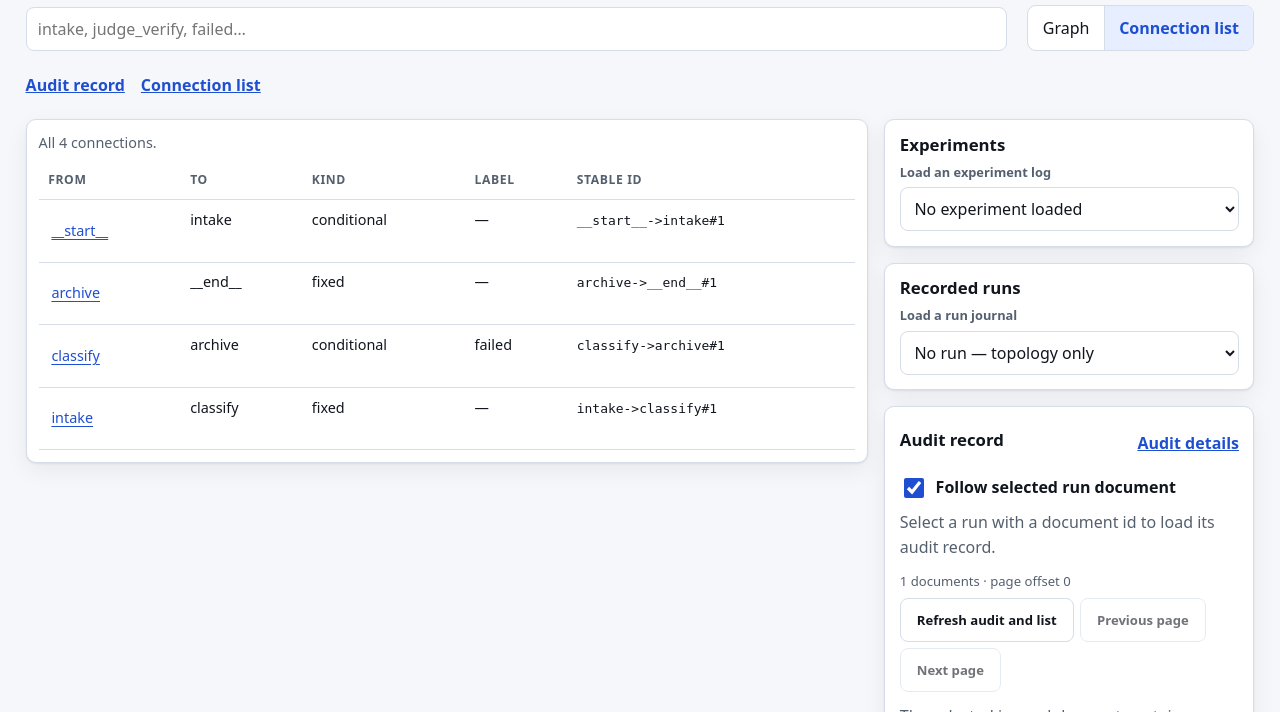
Test: recorded run playback › Show all clears the current step and stops playback
(page scrolled)
Check: the text "All 4 connections." is shown, box [39,133,157,152]
Step 1. Select "real-doc.txt — contract / archived" in the dropdown labelled "Load a run journal" → (1069, 353), box [900,331,1239,375]
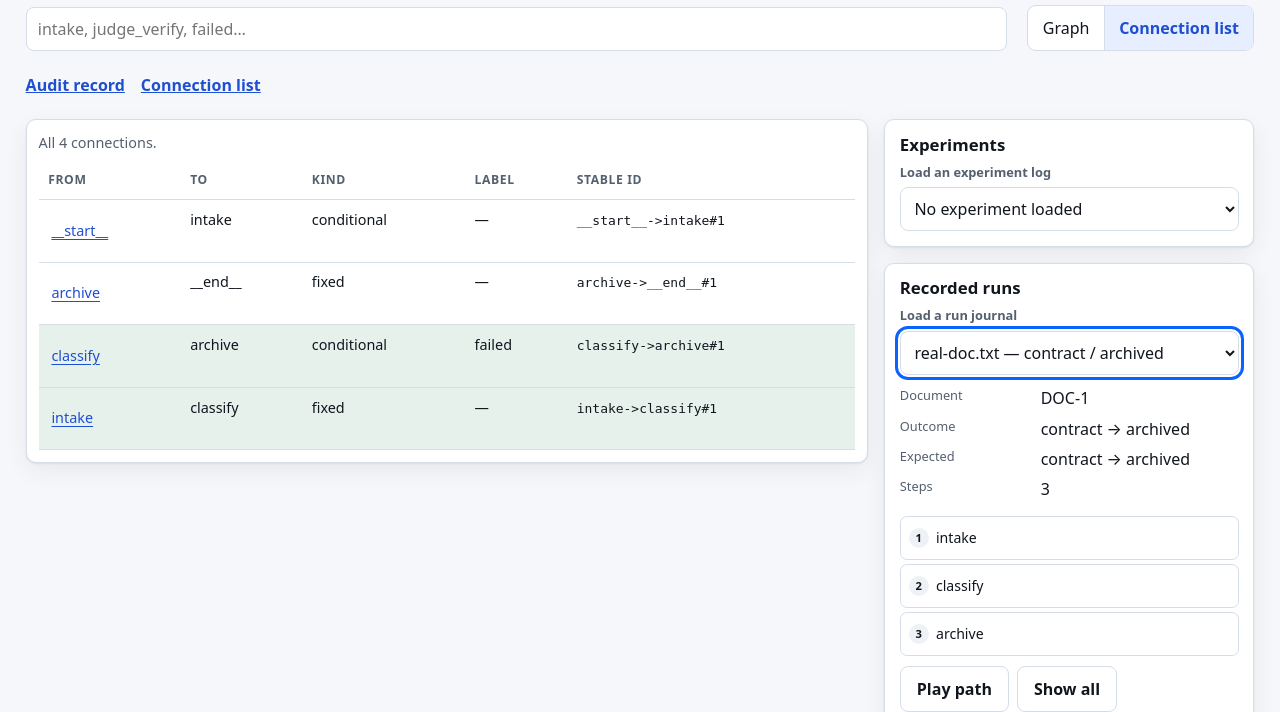
Step 2. Click the button "Play path" → (954, 689), box [900,666,1009,711]
Wait 900 ms
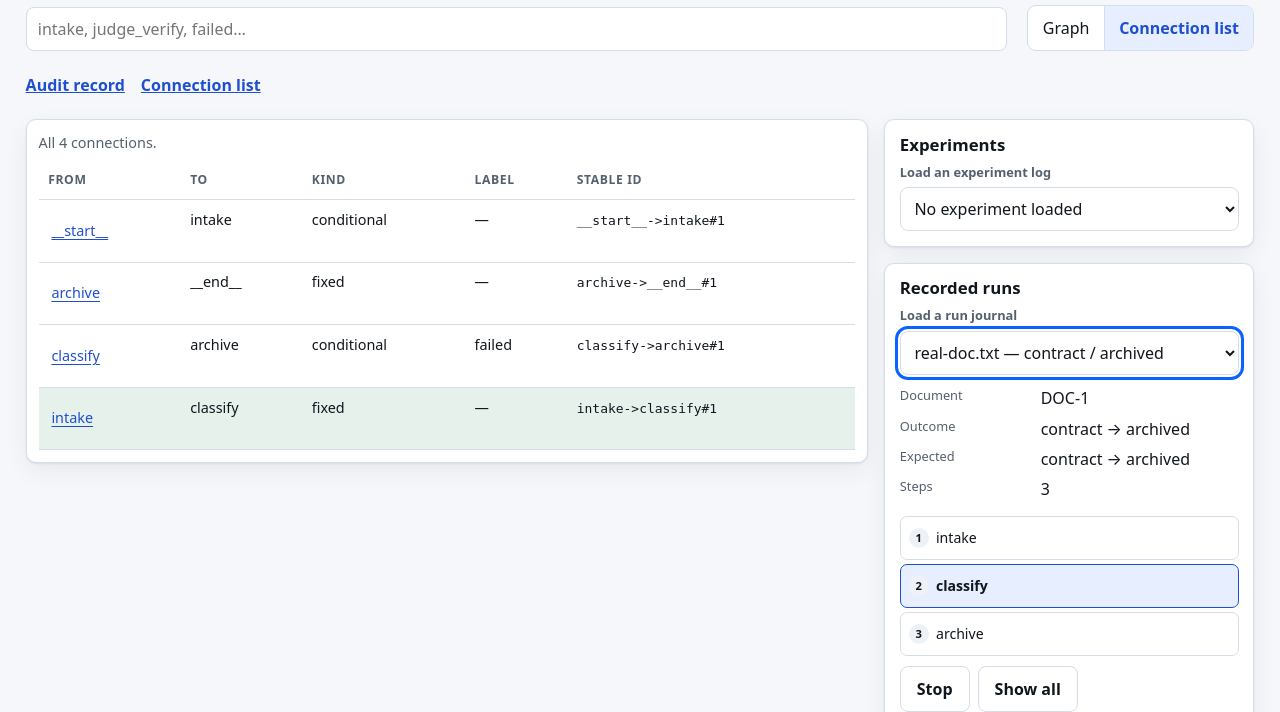
Step 3. Click the button "Show all" → (1028, 689), box [978,666,1078,711]
Wait 10000 ms
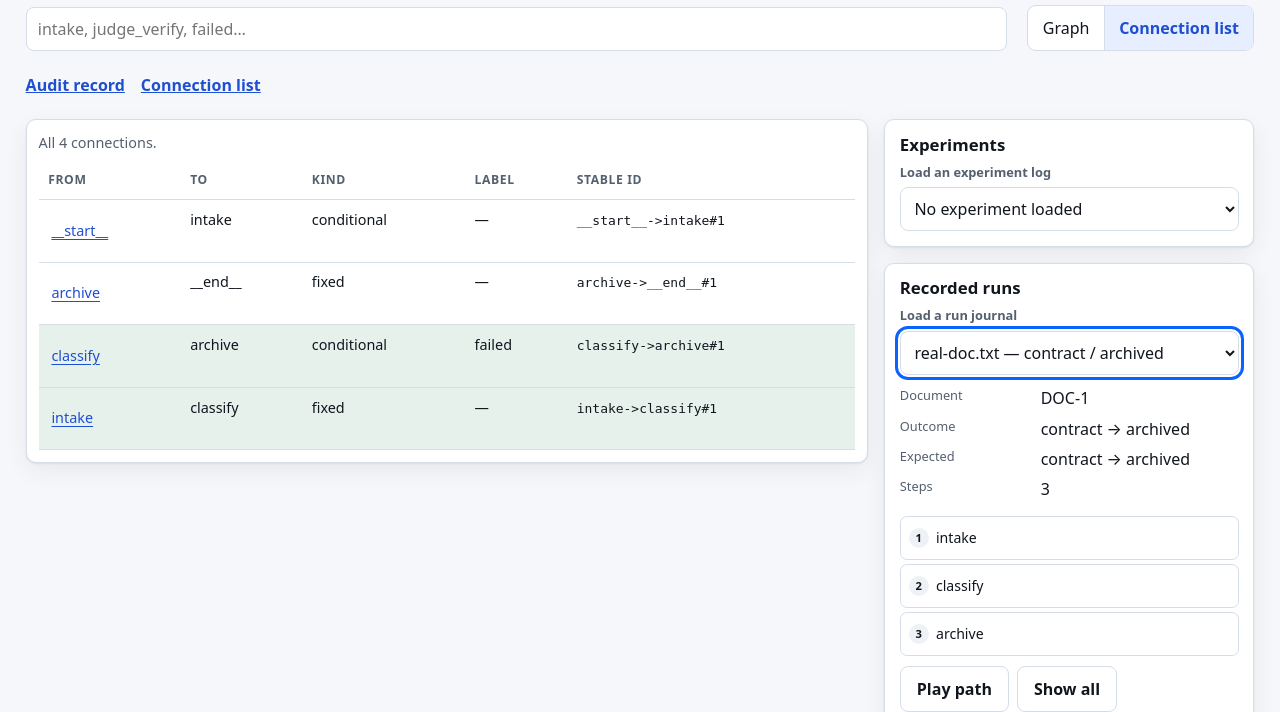
Check: the button "Play path" is shown, box [900,666,1009,711]
